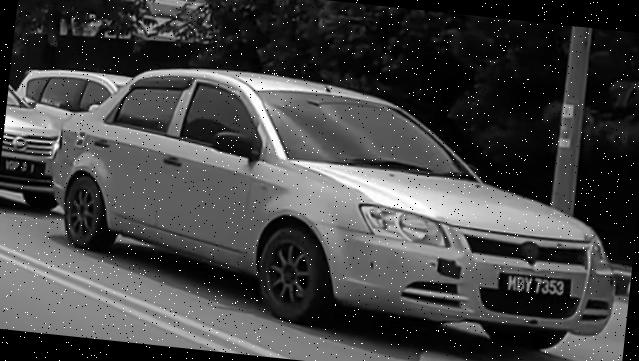License_Plate: (498, 270, 573, 302)
car: (40, 51, 638, 360)
